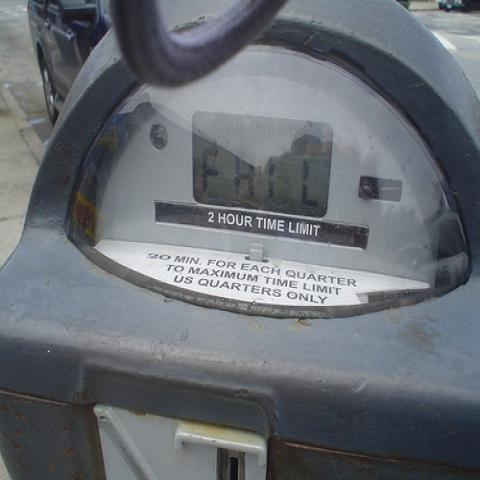car: (26, 3, 112, 123), (440, 0, 470, 13)
